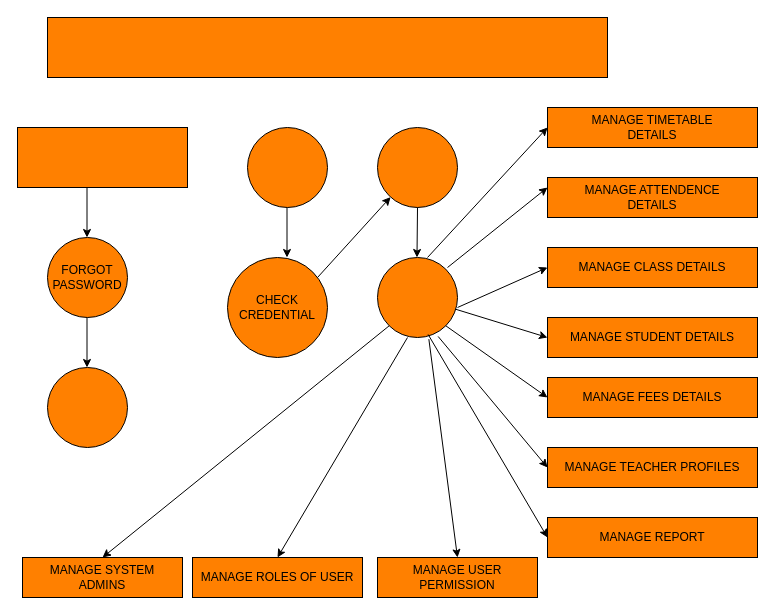
The diagram is 775 pixels wide and 615 high, and some of its shapes have lost their labels. Here are the shapes that lost their labels. From the top down, the centre of each, then its label:
point 327,47: STUDENT INFORMATION SYSTEM
point 102,157: ADMIN
point 287,167: LOGIN TO SYSTEM
point 417,167: CHECK ROLES OF ACCESS
point 417,297: MANAGES MODULES
point 87,407: SEND EMAIL TO USER
